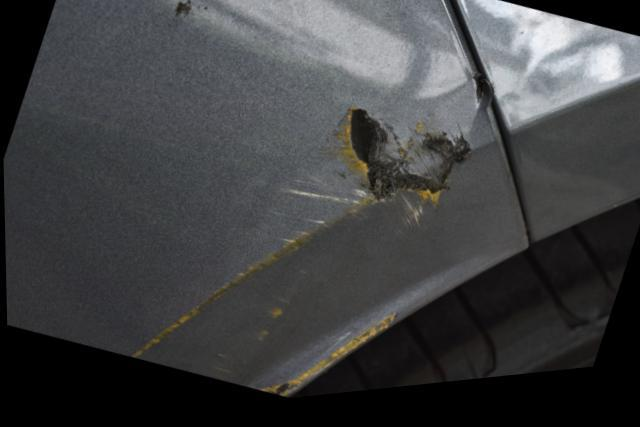scratch: (125, 96, 477, 403)
